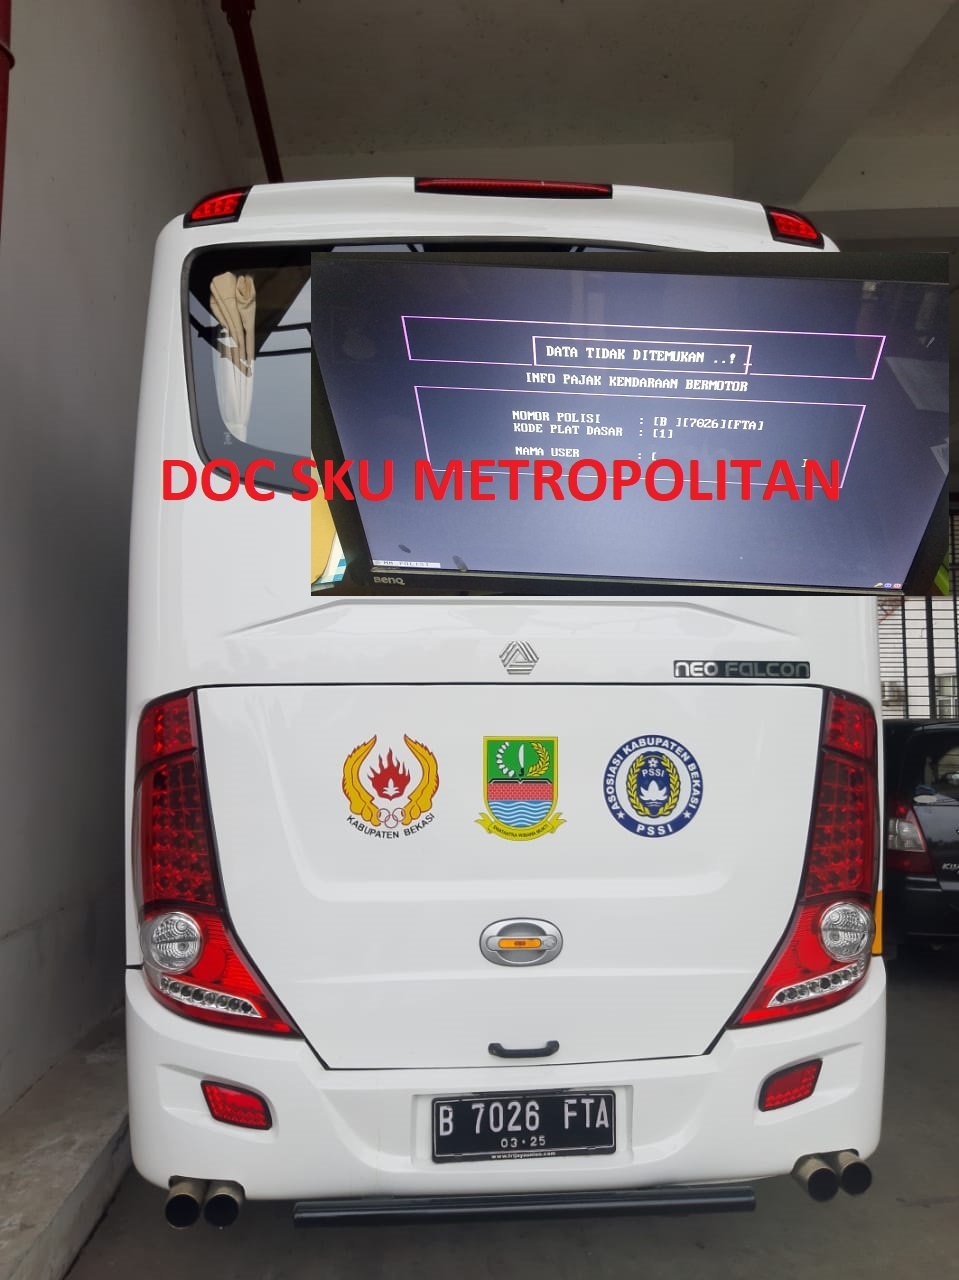plate: (432, 1092, 616, 1158)
